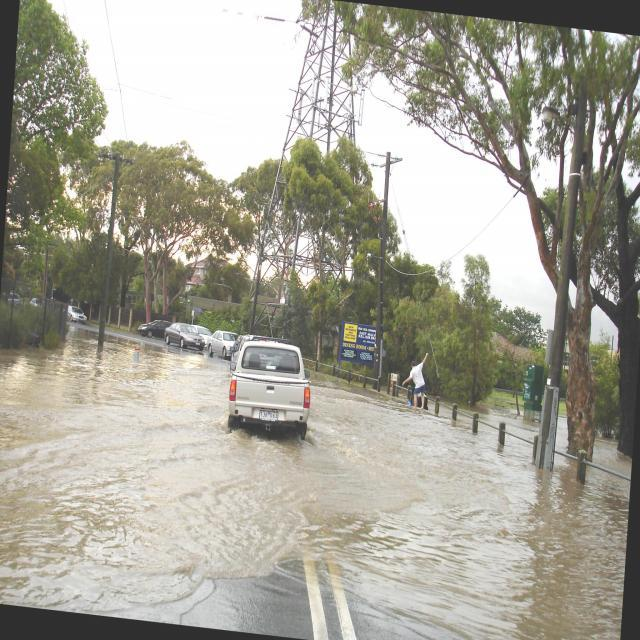flood: (0, 328, 636, 640)
